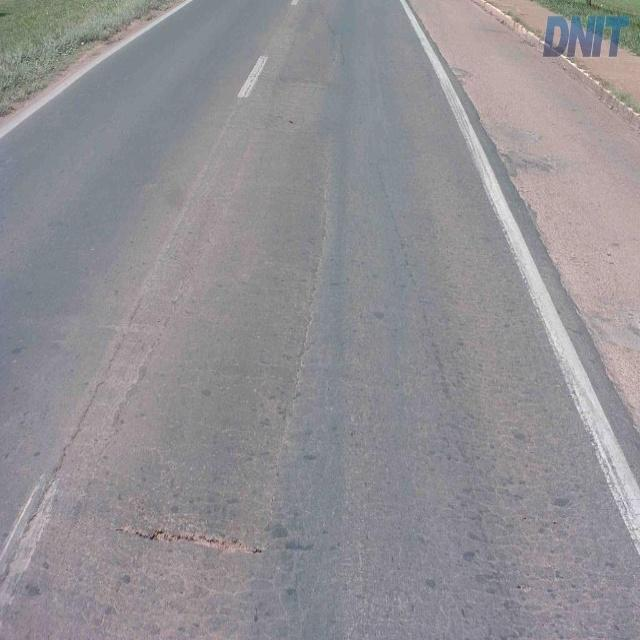pothole: (117, 515, 270, 559)
